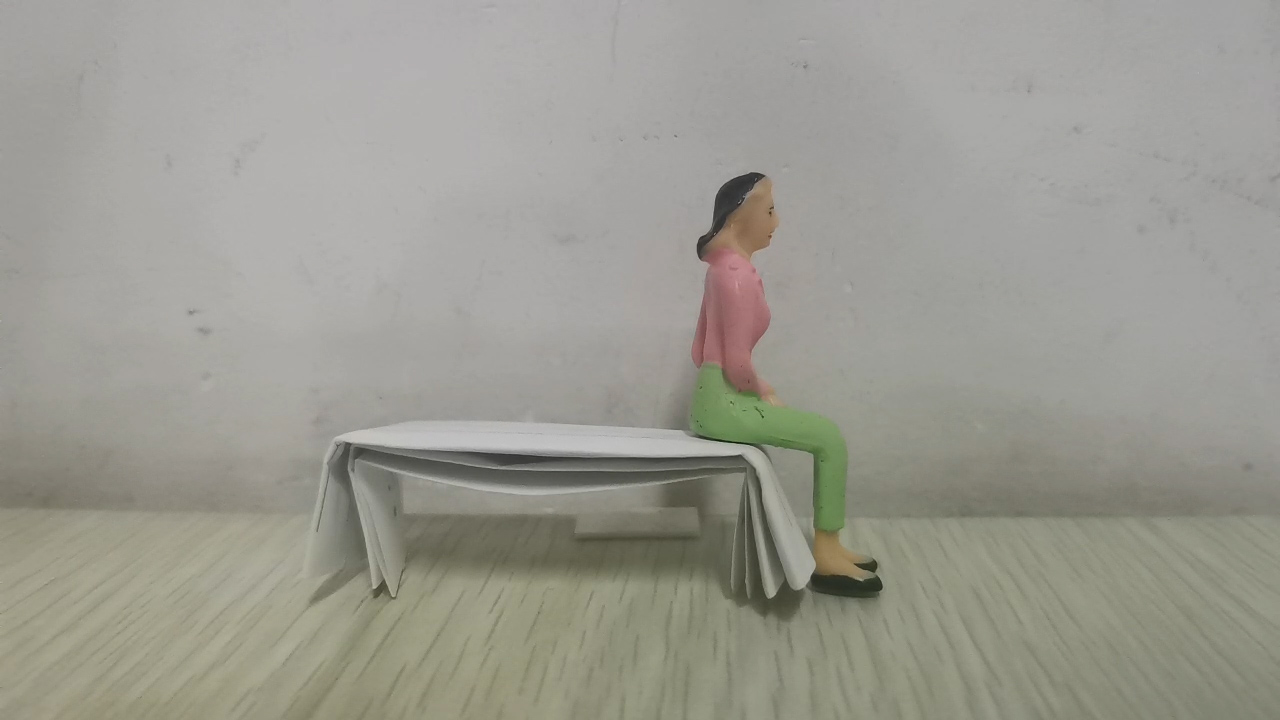person: (686, 170, 887, 598)
